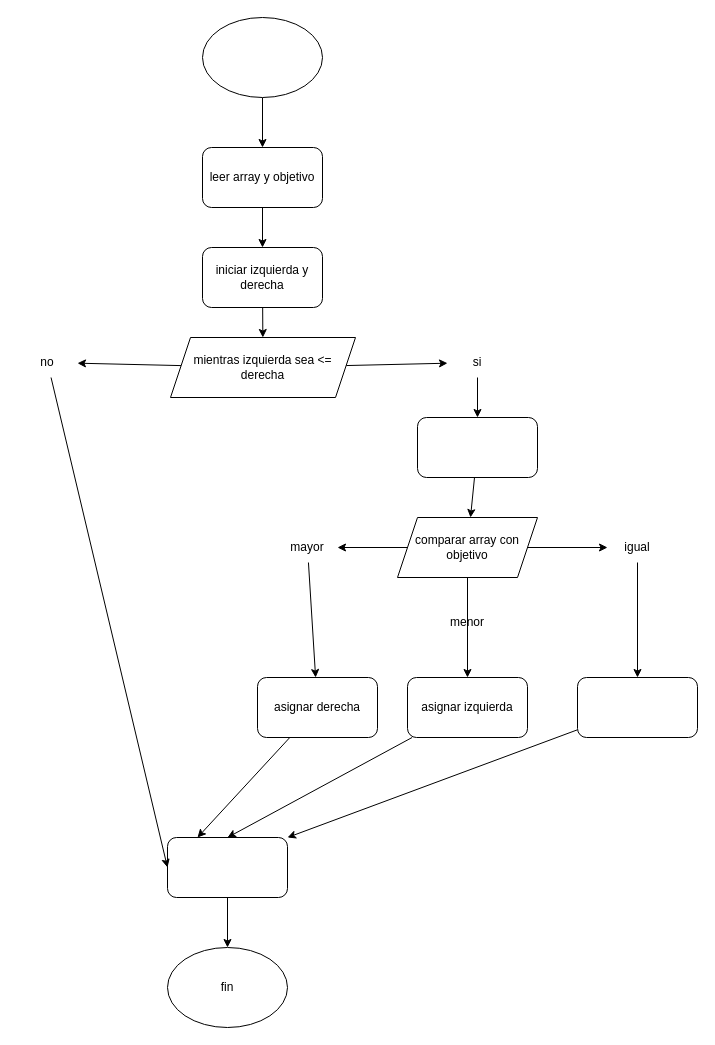
This 715x1045 diagram has some shape labels left out. The shapes that lost their labels are listed below. From the top down, each one's centre as x and y in pixels, then its label:
At [262,57]: "inicio".
At [477,447]: "calcular medio".
At [637,707]: "retornar indice encontrado".
At [227,867]: "retomar valor".
